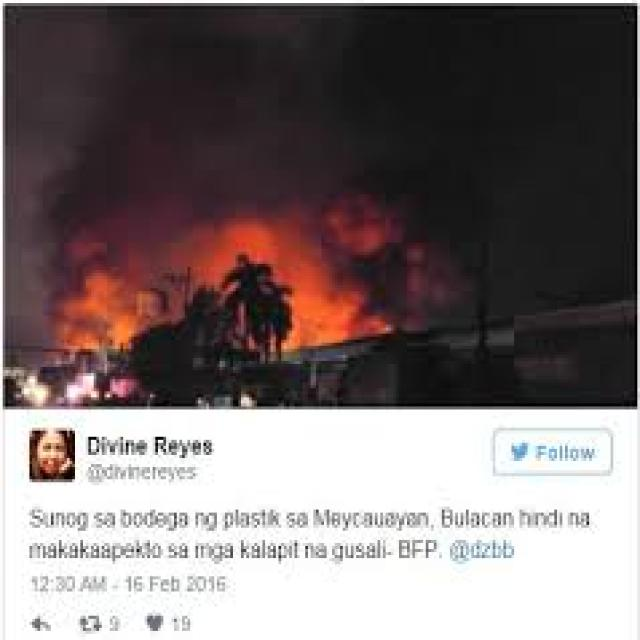Fire: (47, 212, 427, 372)
Smoke: (28, 0, 617, 205)
